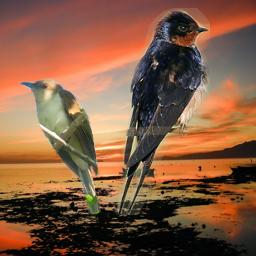Cuckoo: (16, 77, 104, 221)
Swallow: (113, 8, 210, 215)
